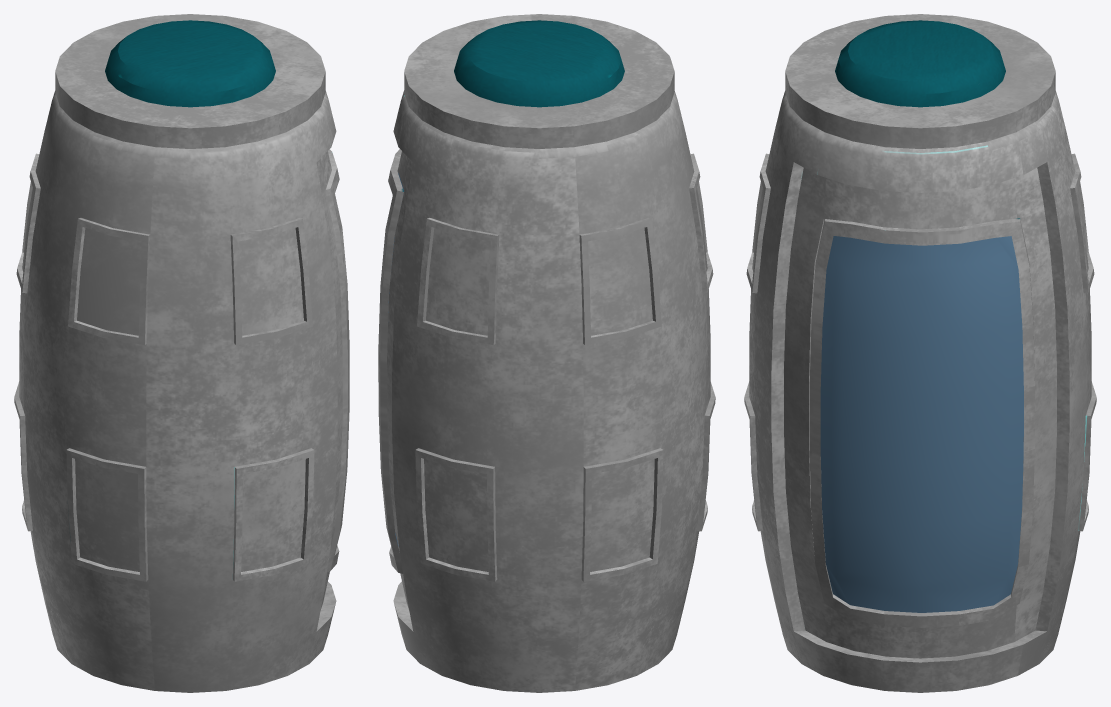
The model's file is pod - Texture.gltf.
3 views of the same model, side by side, from view 1: azimuth 30°, elevation 25°; view 2: azimuth 150°, elevation 25°; view 3: azimuth 270°, elevation 25° (orthographic).
Visible parts, largest first — view 1: Cylinder, Cylinder.001; view 2: Cylinder, Cylinder.001; view 3: Cylinder, Cylinder.001.
Part boxes in pixels (<box>): Cylinder: <box>14,14,342,692</box>; Cylinder.001: <box>325,149,349,571</box>; Cylinder: <box>387,14,715,692</box>; Cylinder.001: <box>378,149,404,573</box>; Cylinder: <box>744,14,1096,692</box>; Cylinder.001: <box>809,218,1034,627</box>.
Size of the model in its own units: 1.99 by 3.95 by 2.14.
Materials: 2 (1 with a texture image).
